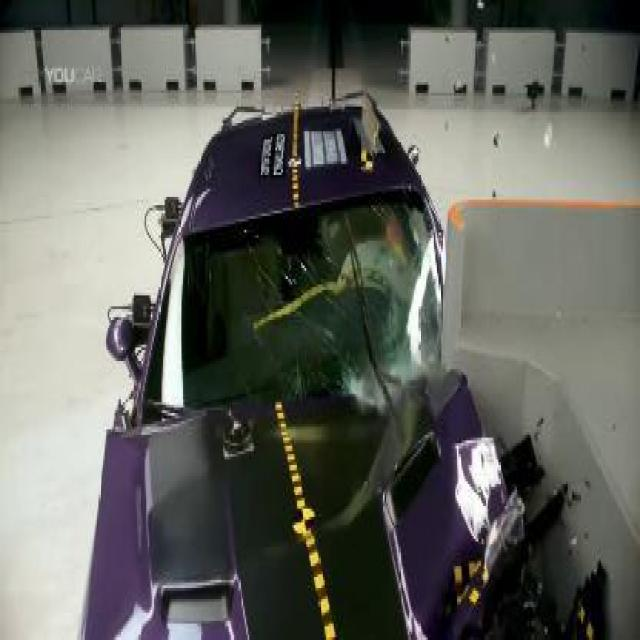accident: (72, 74, 638, 637)
